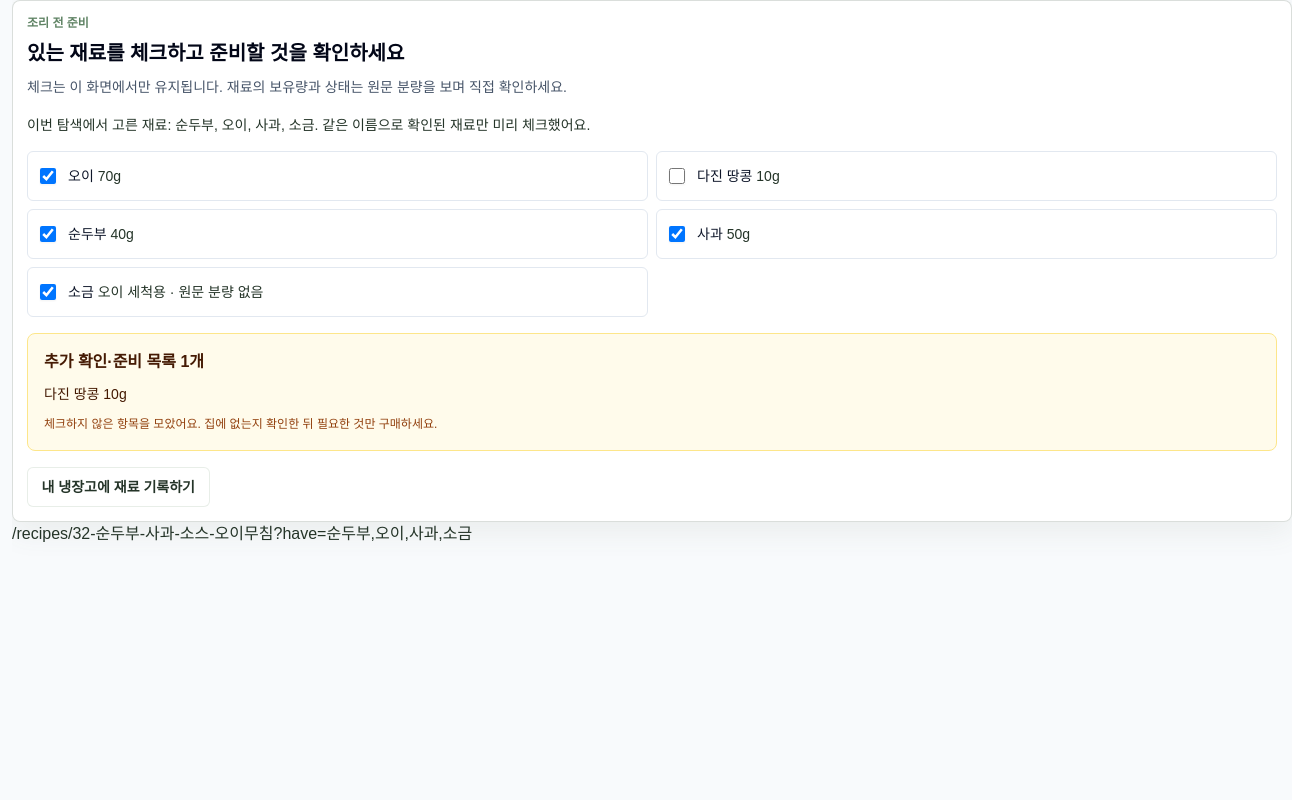
Test: RecipePreparationChecklist › updates remaining preparation immediately when a seeded checkbox is cleared or restored
The image size is (1292, 800).
Expected: the heading "추가 확인·준비 목록 1개" is shown, [44,353,204,370]
Expected: the list item "다진 땅콩 10g" below "추가 확인·준비 목록" is shown, [44,386,127,402]
Click the checkbox labelled "오이 70g" at (48, 176), box [40,168,56,184]
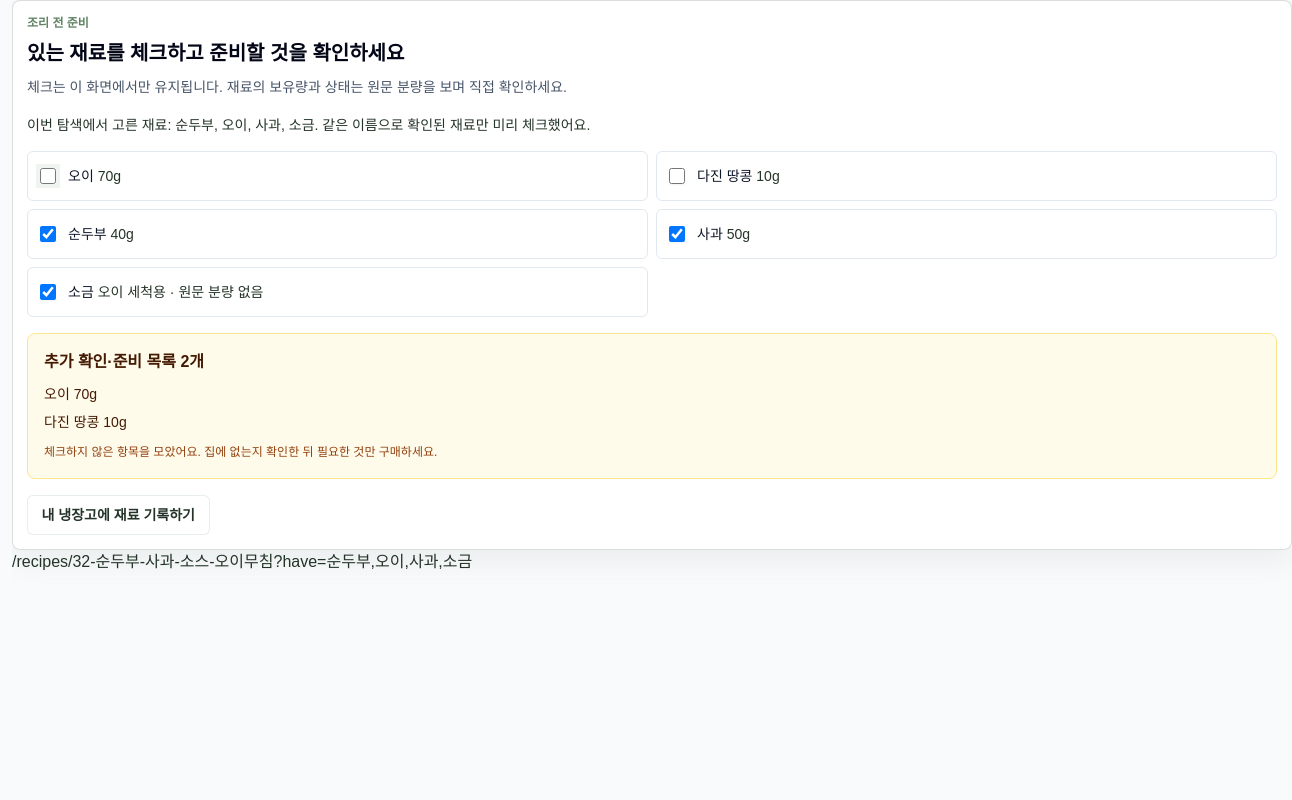
Now the heading "추가 확인·준비 목록 2개" is shown, box [44,353,204,370]
Now the list item "오이 70g" below "추가 확인·준비 목록" is shown, box [44,386,97,402]
Click the checkbox labelled "오이 70g" at (48, 176), box [40,168,56,184]
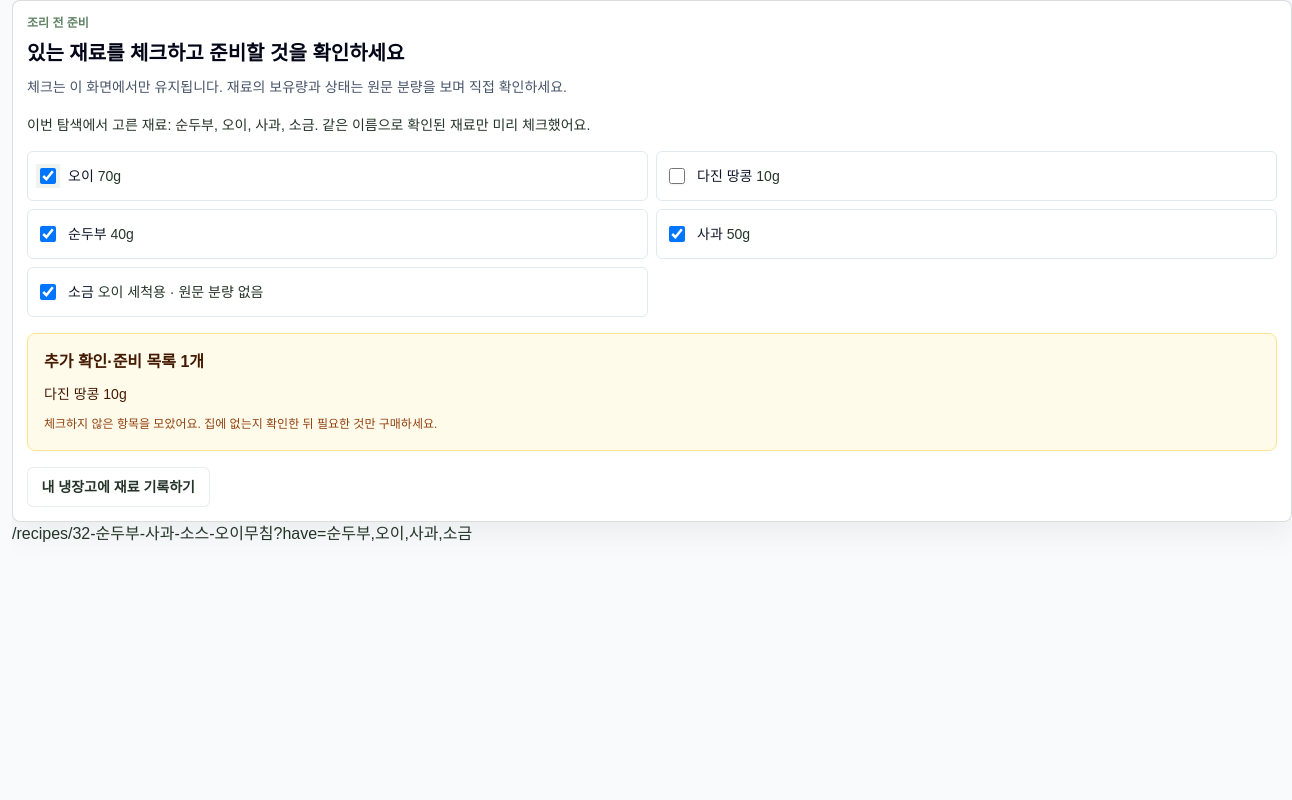
Click the checkbox labelled "다진 땅콩 10g" at (677, 176), box [669,168,685,184]
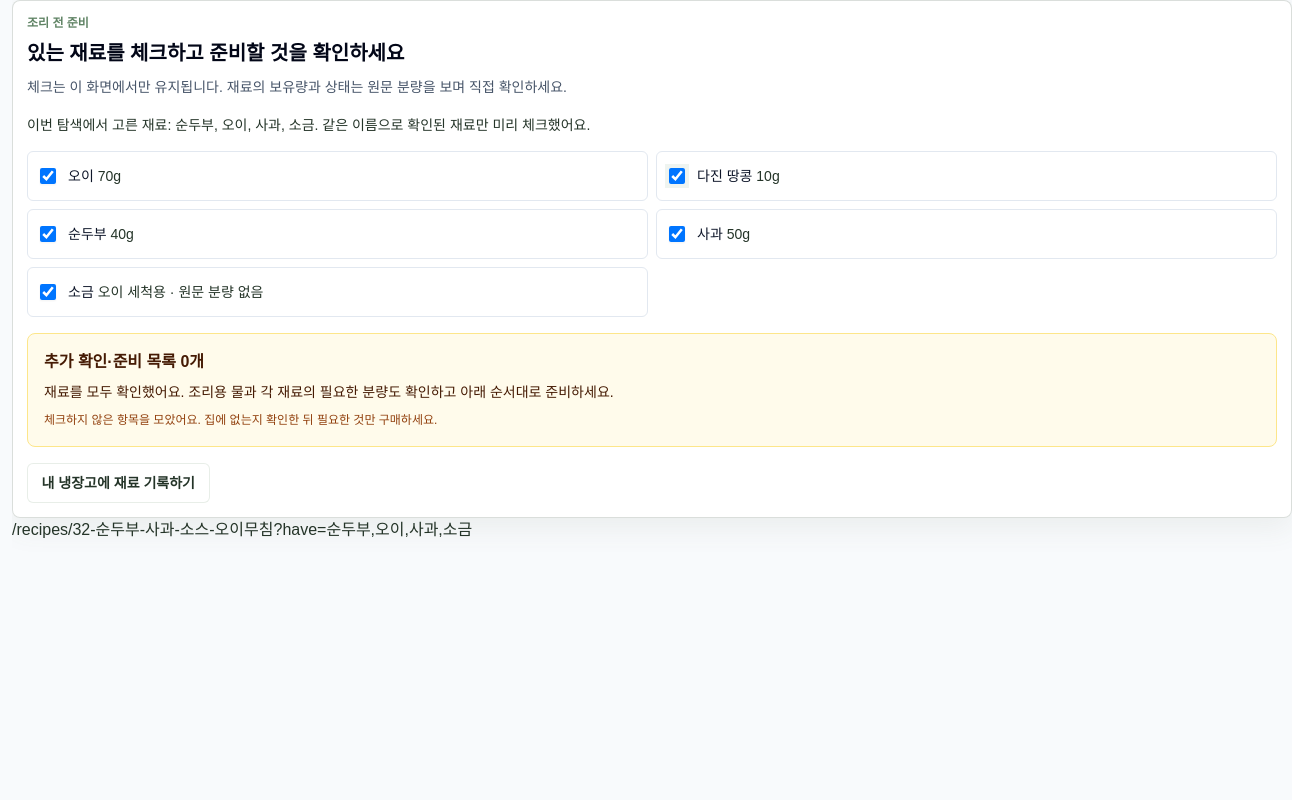
Now the heading "추가 확인·준비 목록 0개" is shown, box [44,353,204,370]
Now the text "재료를 모두 확인했어요. 조리용 물과 각 재료의 필요한 분량도 확인하고 아래 순서대로 준비하세요." is shown, box [44,384,614,400]
